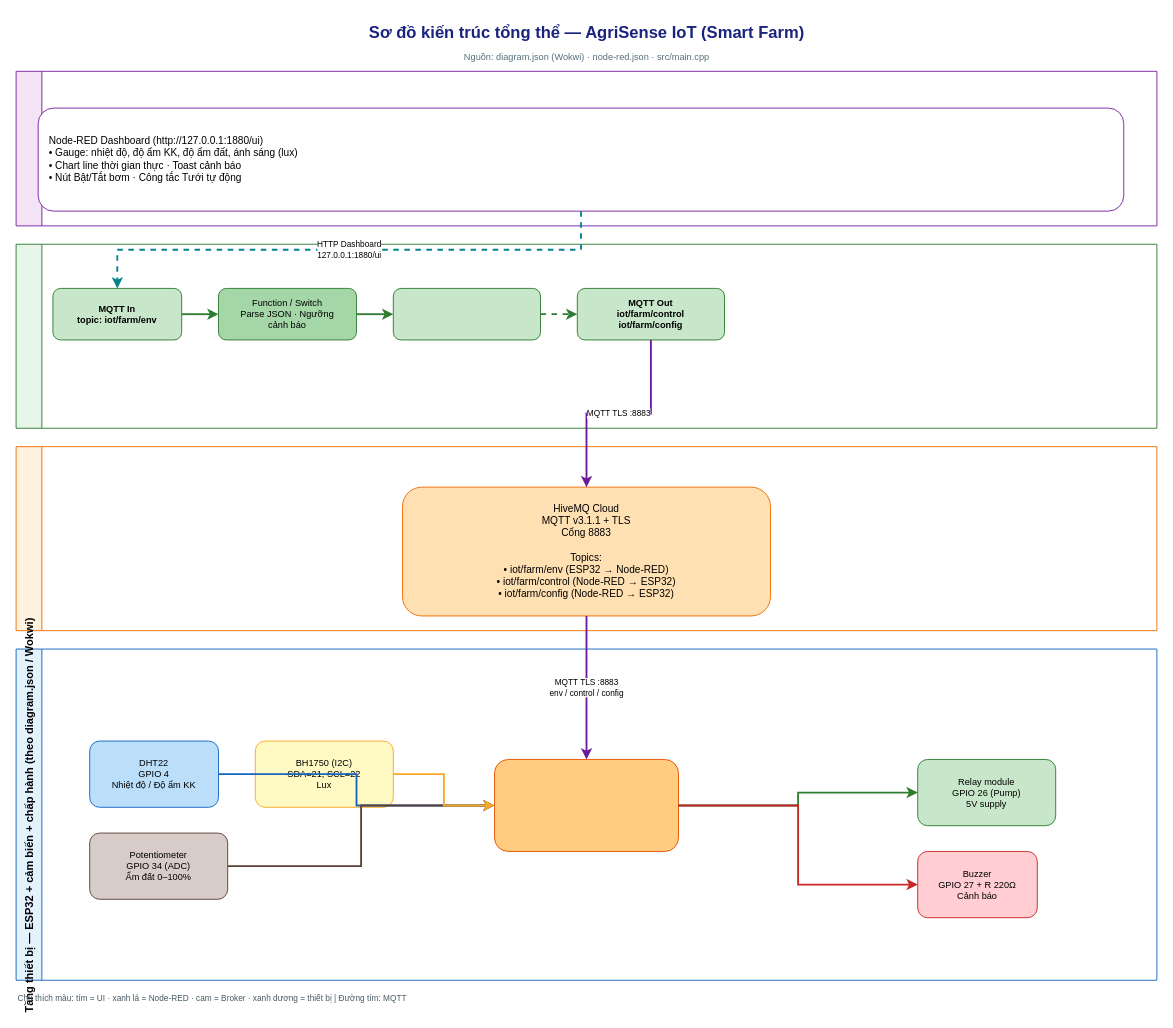
Image size: 1173x1028. Some labels were removed from this diagram. The box of each missing label's shape, as (x1, y1, x2, y2) in pixels:
ESP32 DevKit Wi-Fi STA WiFiClientSecure + PubSubClient (TLS): (494, 759, 678, 851)
Giao diện người dùng — Trình duyệt (Dashboard): (15, 70, 1157, 226)
Tầng mạng — HiveMQ Cloud (MQTT Broker): (15, 446, 1157, 631)
Tầng ứng dụng — Node-RED (luồng xử lý): (15, 243, 1157, 428)
ui_gauge · ui_chart ui_toast · Dashboard: (392, 288, 540, 340)
